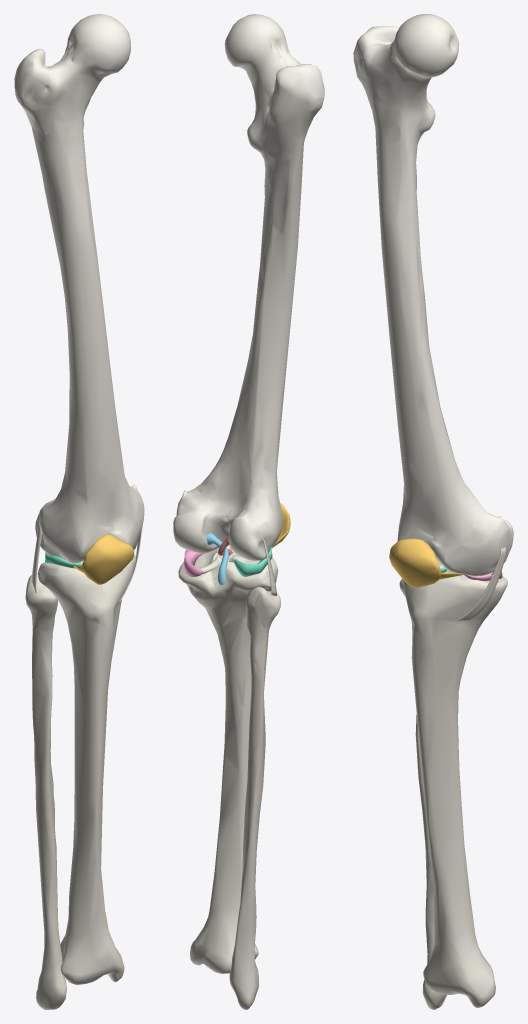
Rendered from knee.glb.
3 renders of one model, left to right at view 1: azimuth 30°, elevation 25°; view 2: azimuth 150°, elevation 25°; view 3: azimuth 330°, elevation 25°, orthographic. The views are drawn at different scales.
Parts seen in each view (by area): view 1: Femur, Tibia, Fibula, Patella, Fibula.001; view 2: Femur, Tibia, Fibula, Lateral meniscus, Posterior cruciate ligament, Medial meniscus; view 3: Femur, Tibia, Patella, Fibula, Tibia.001.
Boxes of the visible parts, box(x1,y1,x2,y2) form: Femur: box(14, 14, 144, 563); Tibia: box(38, 555, 136, 984); Fibula: box(25, 573, 66, 1009); Patella: box(82, 534, 134, 584); Fibula.001: box(31, 525, 42, 593); Femur: box(173, 14, 324, 560); Tibia: box(178, 544, 278, 973); Fibula: box(229, 587, 280, 1009); Lateral meniscus: box(234, 547, 272, 576); Posterior cruciate ligament: box(206, 533, 228, 584); Medial meniscus: box(183, 549, 208, 576); Femur: box(353, 14, 513, 576); Tibia: box(402, 559, 507, 1007); Patella: box(389, 538, 441, 587); Fibula: box(399, 579, 446, 1009); Tibia.001: box(457, 547, 506, 620).
Size of the model in its own units: 0.3656 by 2.6 by 0.2563.
